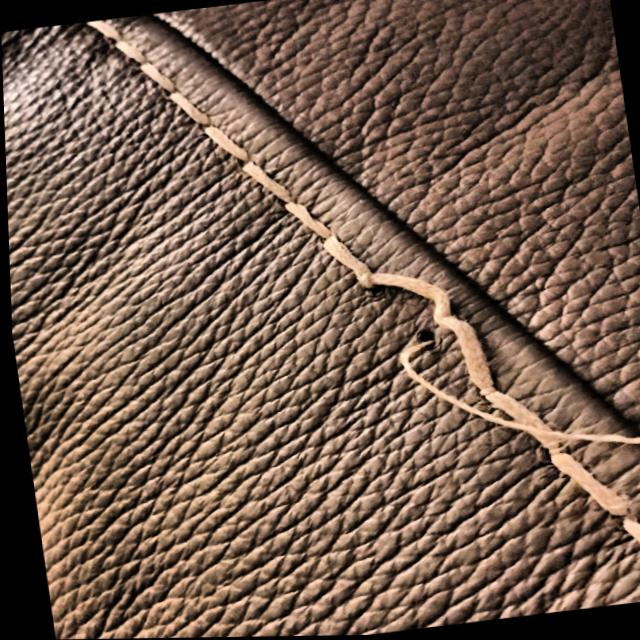Stitch: (294, 213, 604, 532)
